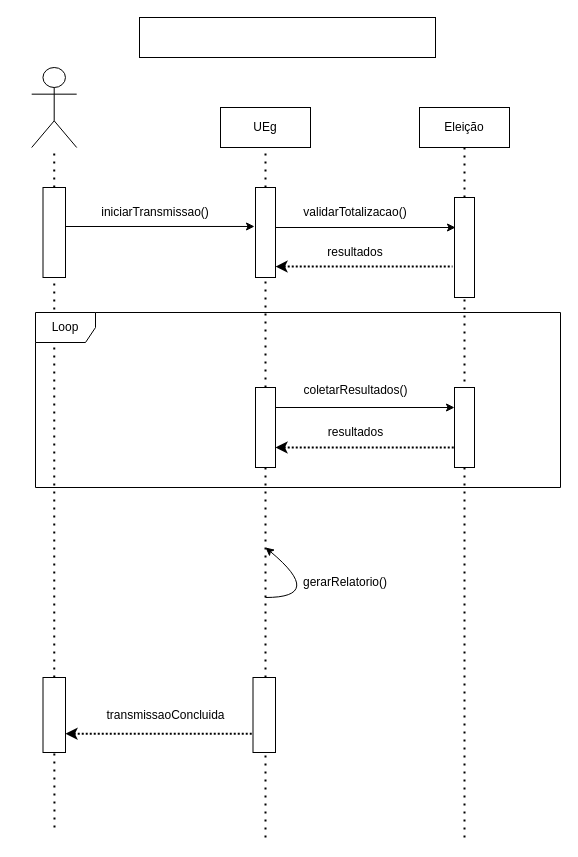
Image size: 578x857. Some labels were removed from this diagram. The centre of each missing label's shape, as x and y in pixels:
Administrador: the point at 54,107
UC-07 Transmitir dados: the point at 287,37
